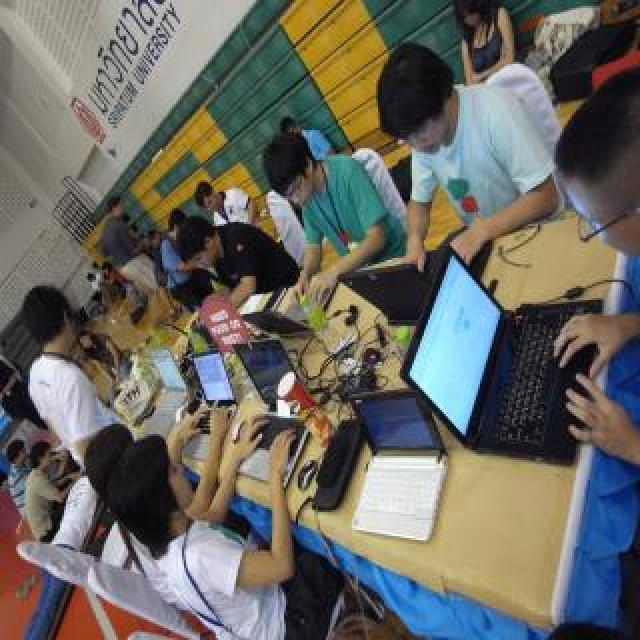laptop_computer: (412, 263, 613, 437), (332, 380, 453, 522), (235, 335, 307, 493), (336, 243, 436, 332), (142, 343, 205, 465), (195, 353, 247, 465)
